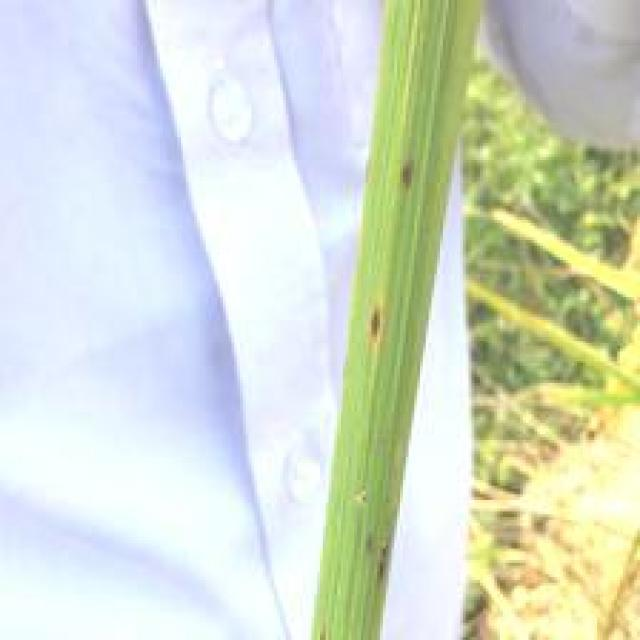Rice_Brownspot: (388, 142, 423, 198), (361, 514, 388, 586), (358, 286, 386, 352)
